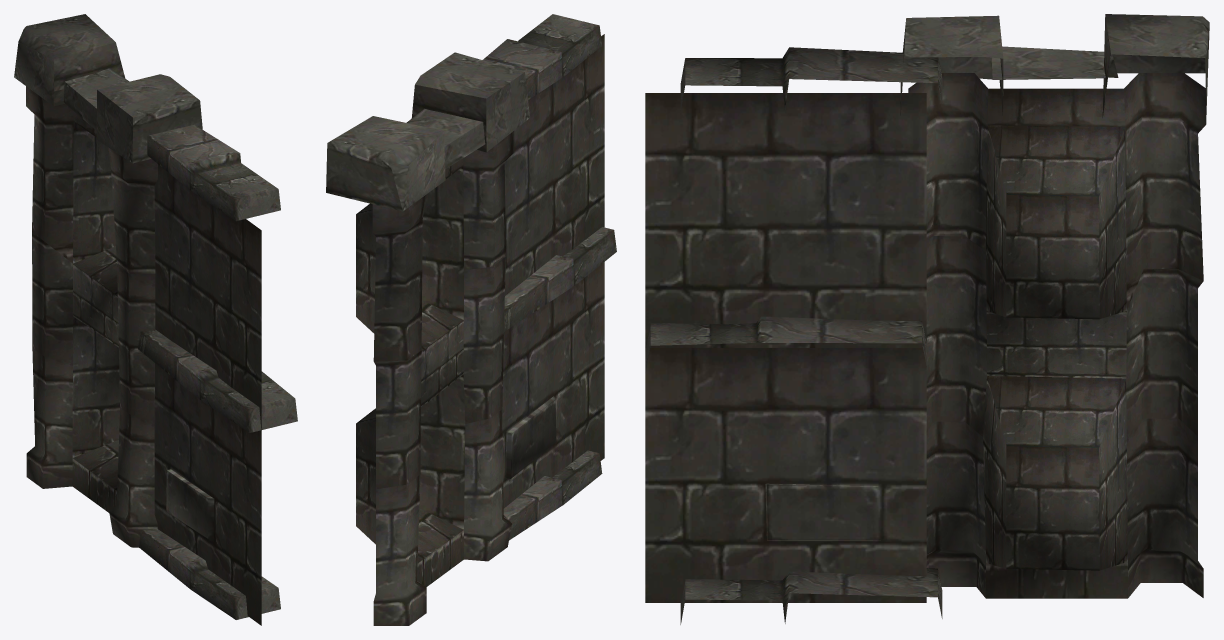
File: h5_building_02.FBX
3 views of the same model, side by side, from view 1: azimuth 30°, elevation 25°; view 2: azimuth 150°, elevation 25°; view 3: azimuth 270°, elevation 25° (orthographic). The views are drawn at different scales.
Parts seen in each view (by area): view 1: h5_building_02; view 2: h5_building_02; view 3: h5_building_02.
Part boxes in pixels (x1,y1,x2,y2): h5_building_02: (14, 14, 297, 625); h5_building_02: (326, 14, 616, 625); h5_building_02: (645, 14, 1209, 624).
Size of the model in its own units: 2.04 by 10.21 by 9.06.
